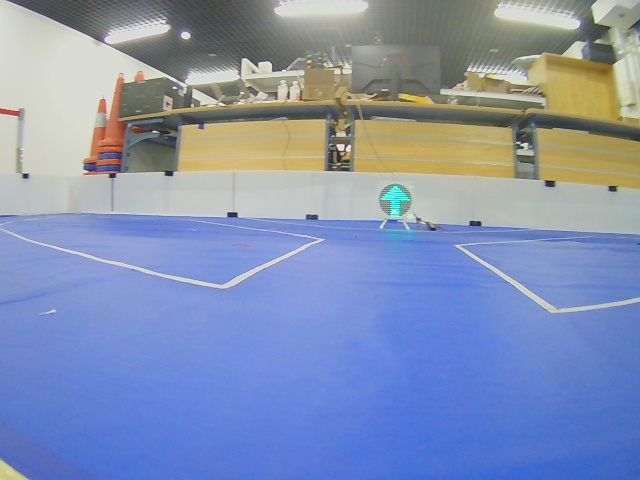straight_green: (377, 182, 413, 220)
